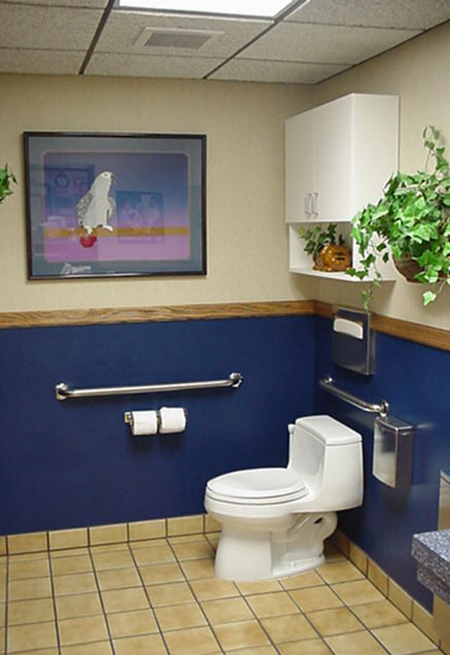cabinet: (280, 106, 398, 280)
dispenser: (123, 412, 192, 440)
handle: (310, 194, 318, 216), (303, 194, 311, 216)
restroom_assist_bar: (48, 371, 246, 408), (310, 371, 393, 424)
toilet: (203, 410, 361, 579)
toilet_handle: (287, 423, 297, 435)
